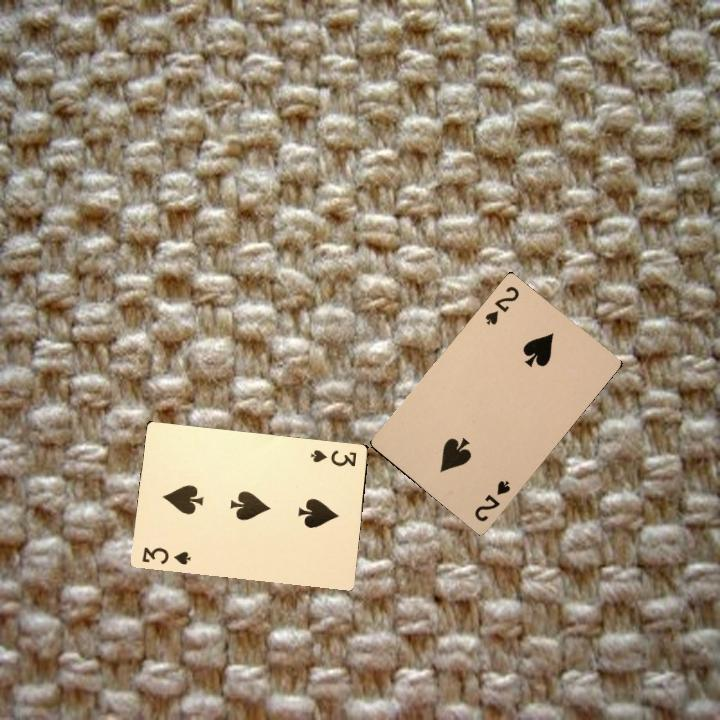2s: (470, 476, 513, 524), (481, 282, 522, 328)
3s: (138, 543, 193, 567), (307, 445, 359, 469)
